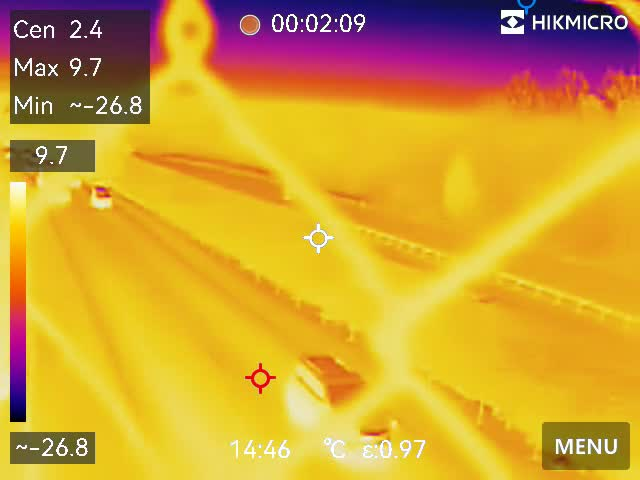largeCar: (290, 347, 400, 452)
